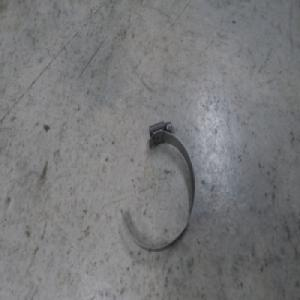AdjustableClamp: (119, 120, 195, 251)
